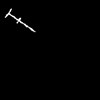double_crochet: (6, 10, 34, 31)
